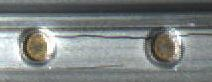joints: (16, 24, 57, 67), (144, 26, 185, 68)
